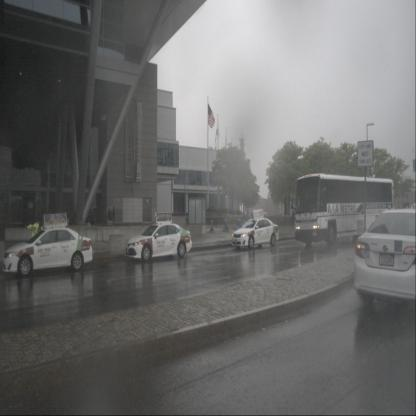human-pedestrian-adult: (107, 206, 113, 235), (90, 208, 96, 232), (292, 208, 296, 228), (113, 206, 116, 228)
vehicle-bus-rigid: (295, 174, 395, 246)
vehicle-car: (354, 209, 416, 305), (2, 227, 92, 278), (126, 223, 192, 262), (232, 218, 279, 249)
